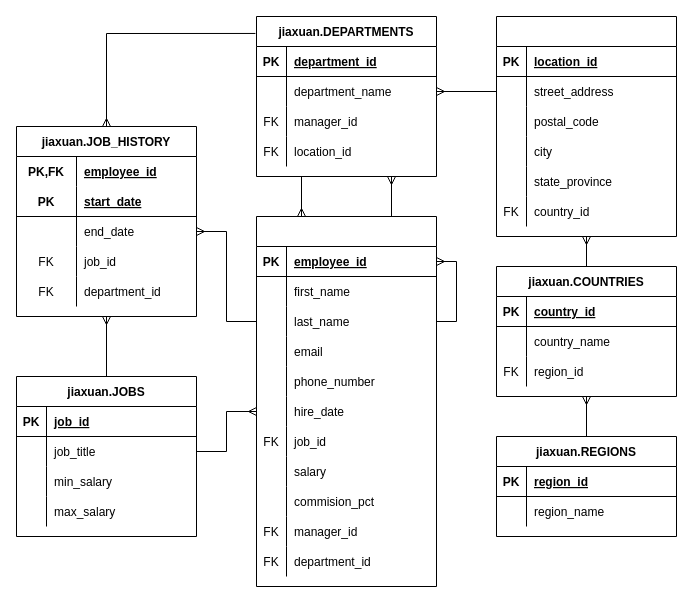
The diagram is 693 pixels wide and 603 high, and some of its shapes have lost their labels. Here are the shapes that lost their labels. From the top down, the box of each, then its label:
(496, 16, 676, 236): jiaxuan.LOCATIONS
(256, 216, 436, 586): jiaxuan.EMPLOYEES
